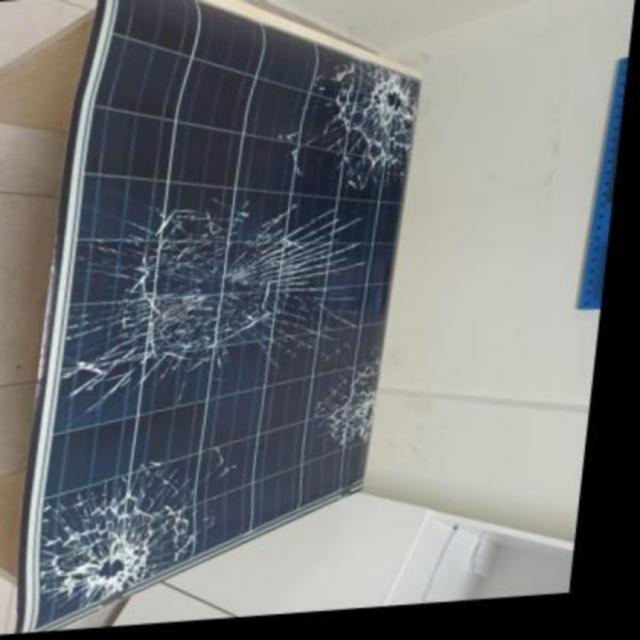cracked: (48, 3, 414, 594)
